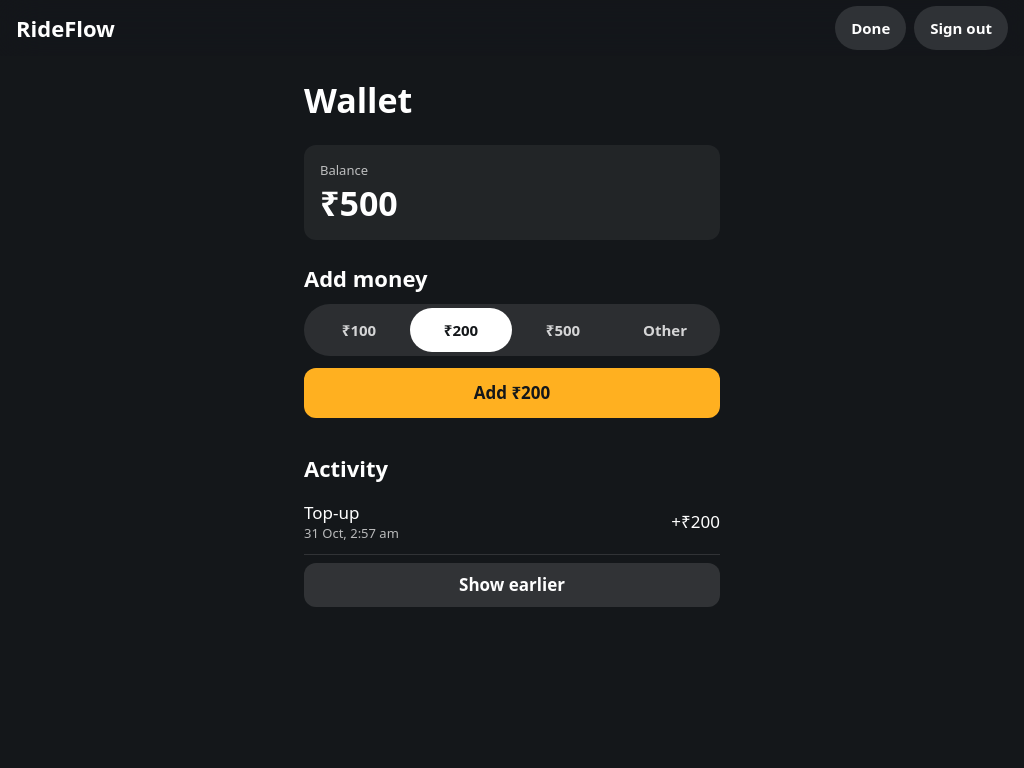
Test case: the wallet › shows earlier activity a page at a time
Step 1. Click the button "Show earlier" → [512, 585], box [304, 563, 720, 607]
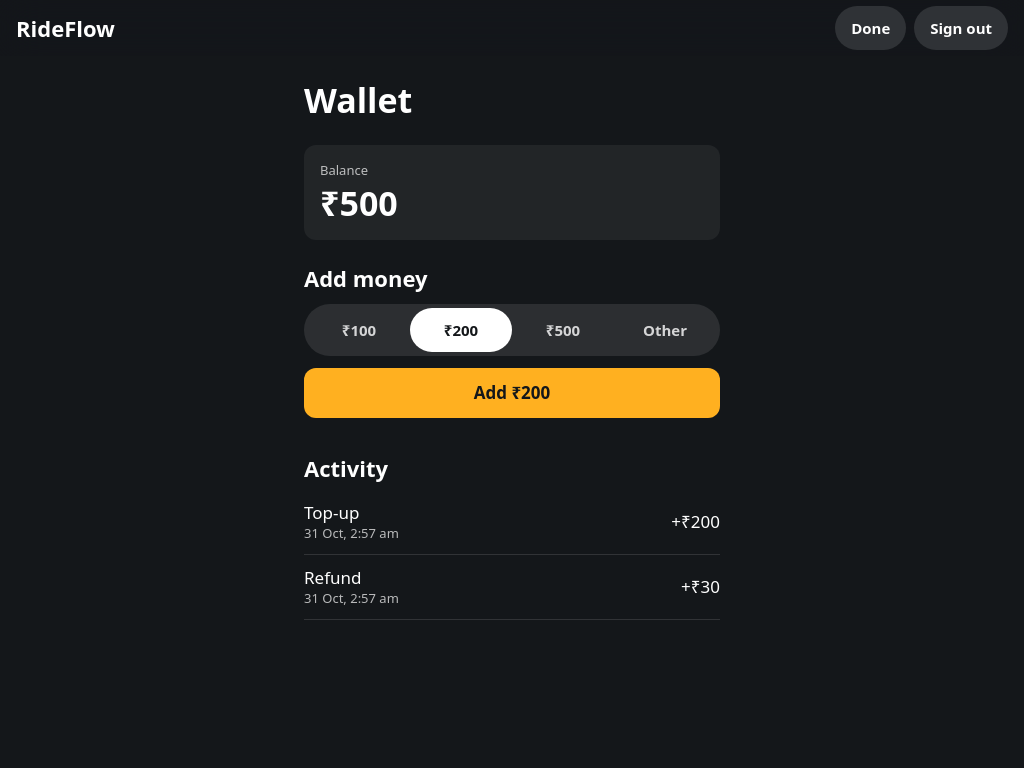
Expected: the text "Refund" is shown, [304, 566, 362, 589]
Expected: the button "Show earlier" is gone
